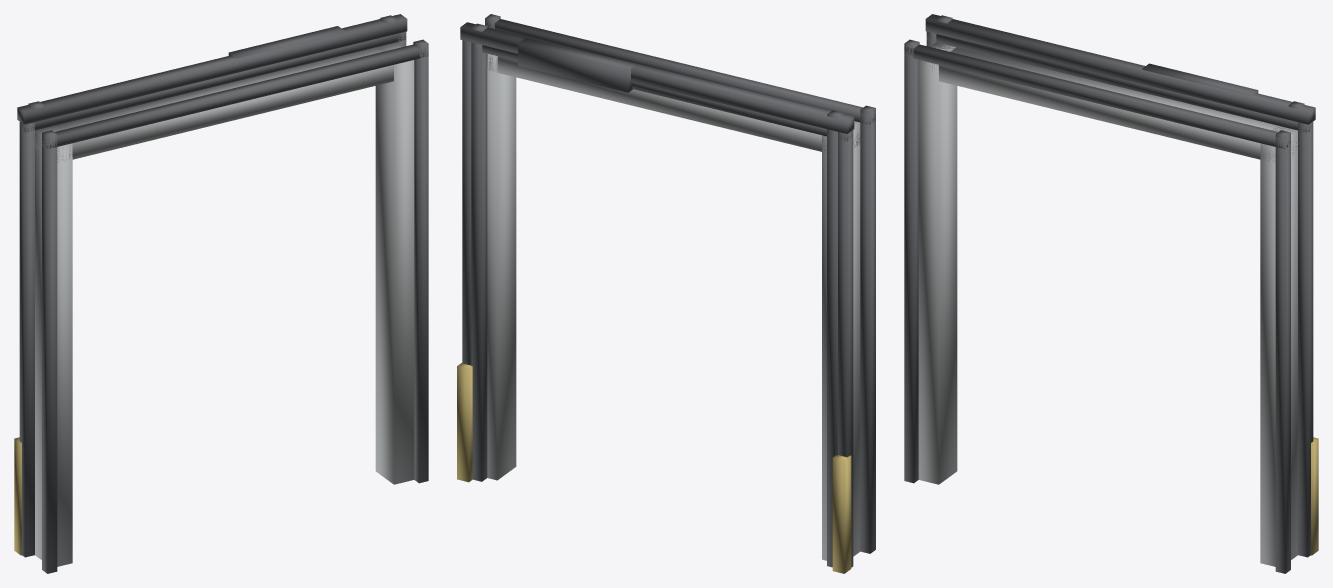
The model's file is bay_opening_service_bay_w300_h360_d30.glb.
The picture shows the model from 3 angles, left to right: view 1: azimuth 30°, elevation 25°; view 2: azimuth 150°, elevation 25°; view 3: azimuth 330°, elevation 25°; orthographic projection.
Parts seen in each view (by area): view 1: world; view 2: world; view 3: world.
Boxes of the visible parts, x1,y1,x2,y2 form: world: (14,14,428,573); world: (457,14,875,573); world: (904,14,1318,573).
Size of the model in its own units: 3.58 by 3.99 by 0.522.
